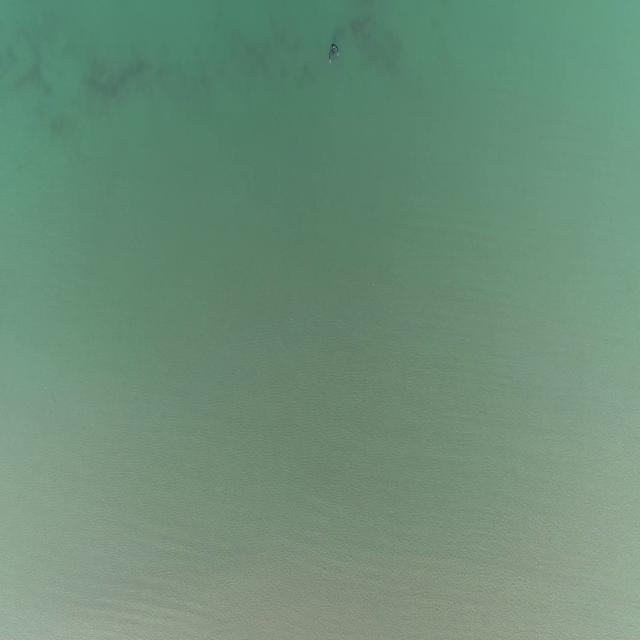person: (327, 43, 341, 63)
